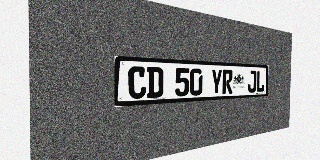0: (190, 68, 203, 96)
5: (175, 68, 189, 97)
C: (128, 66, 146, 99)
D: (147, 67, 163, 98)
J: (248, 70, 256, 93)
L: (256, 71, 265, 92)
R: (222, 69, 233, 94)
Y: (211, 69, 222, 95)
